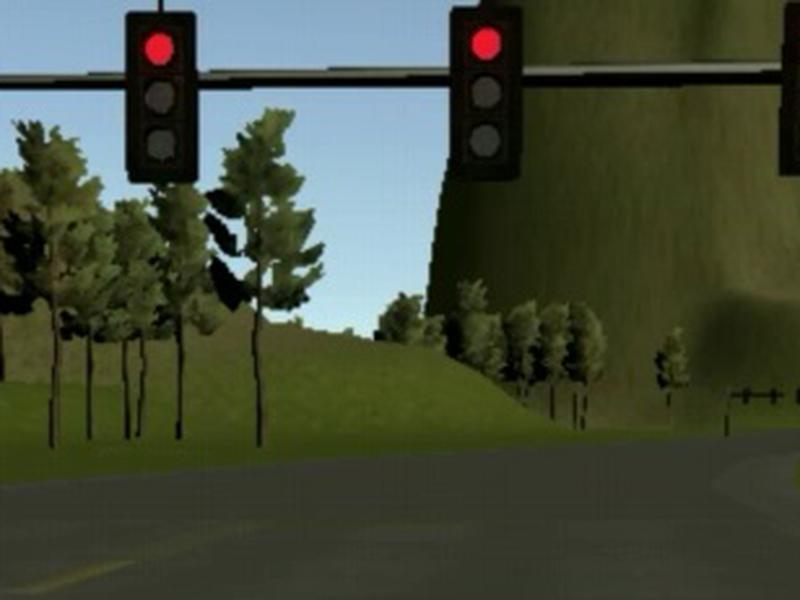Red: (447, 4, 525, 184), (123, 9, 201, 184)
